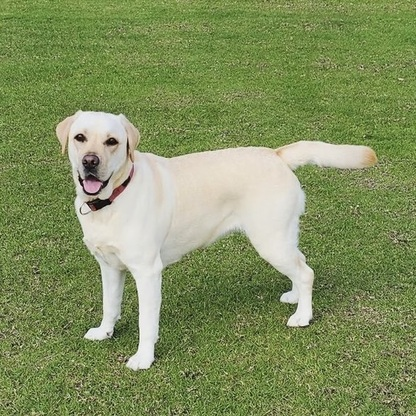labrado: (51, 108, 382, 375)
